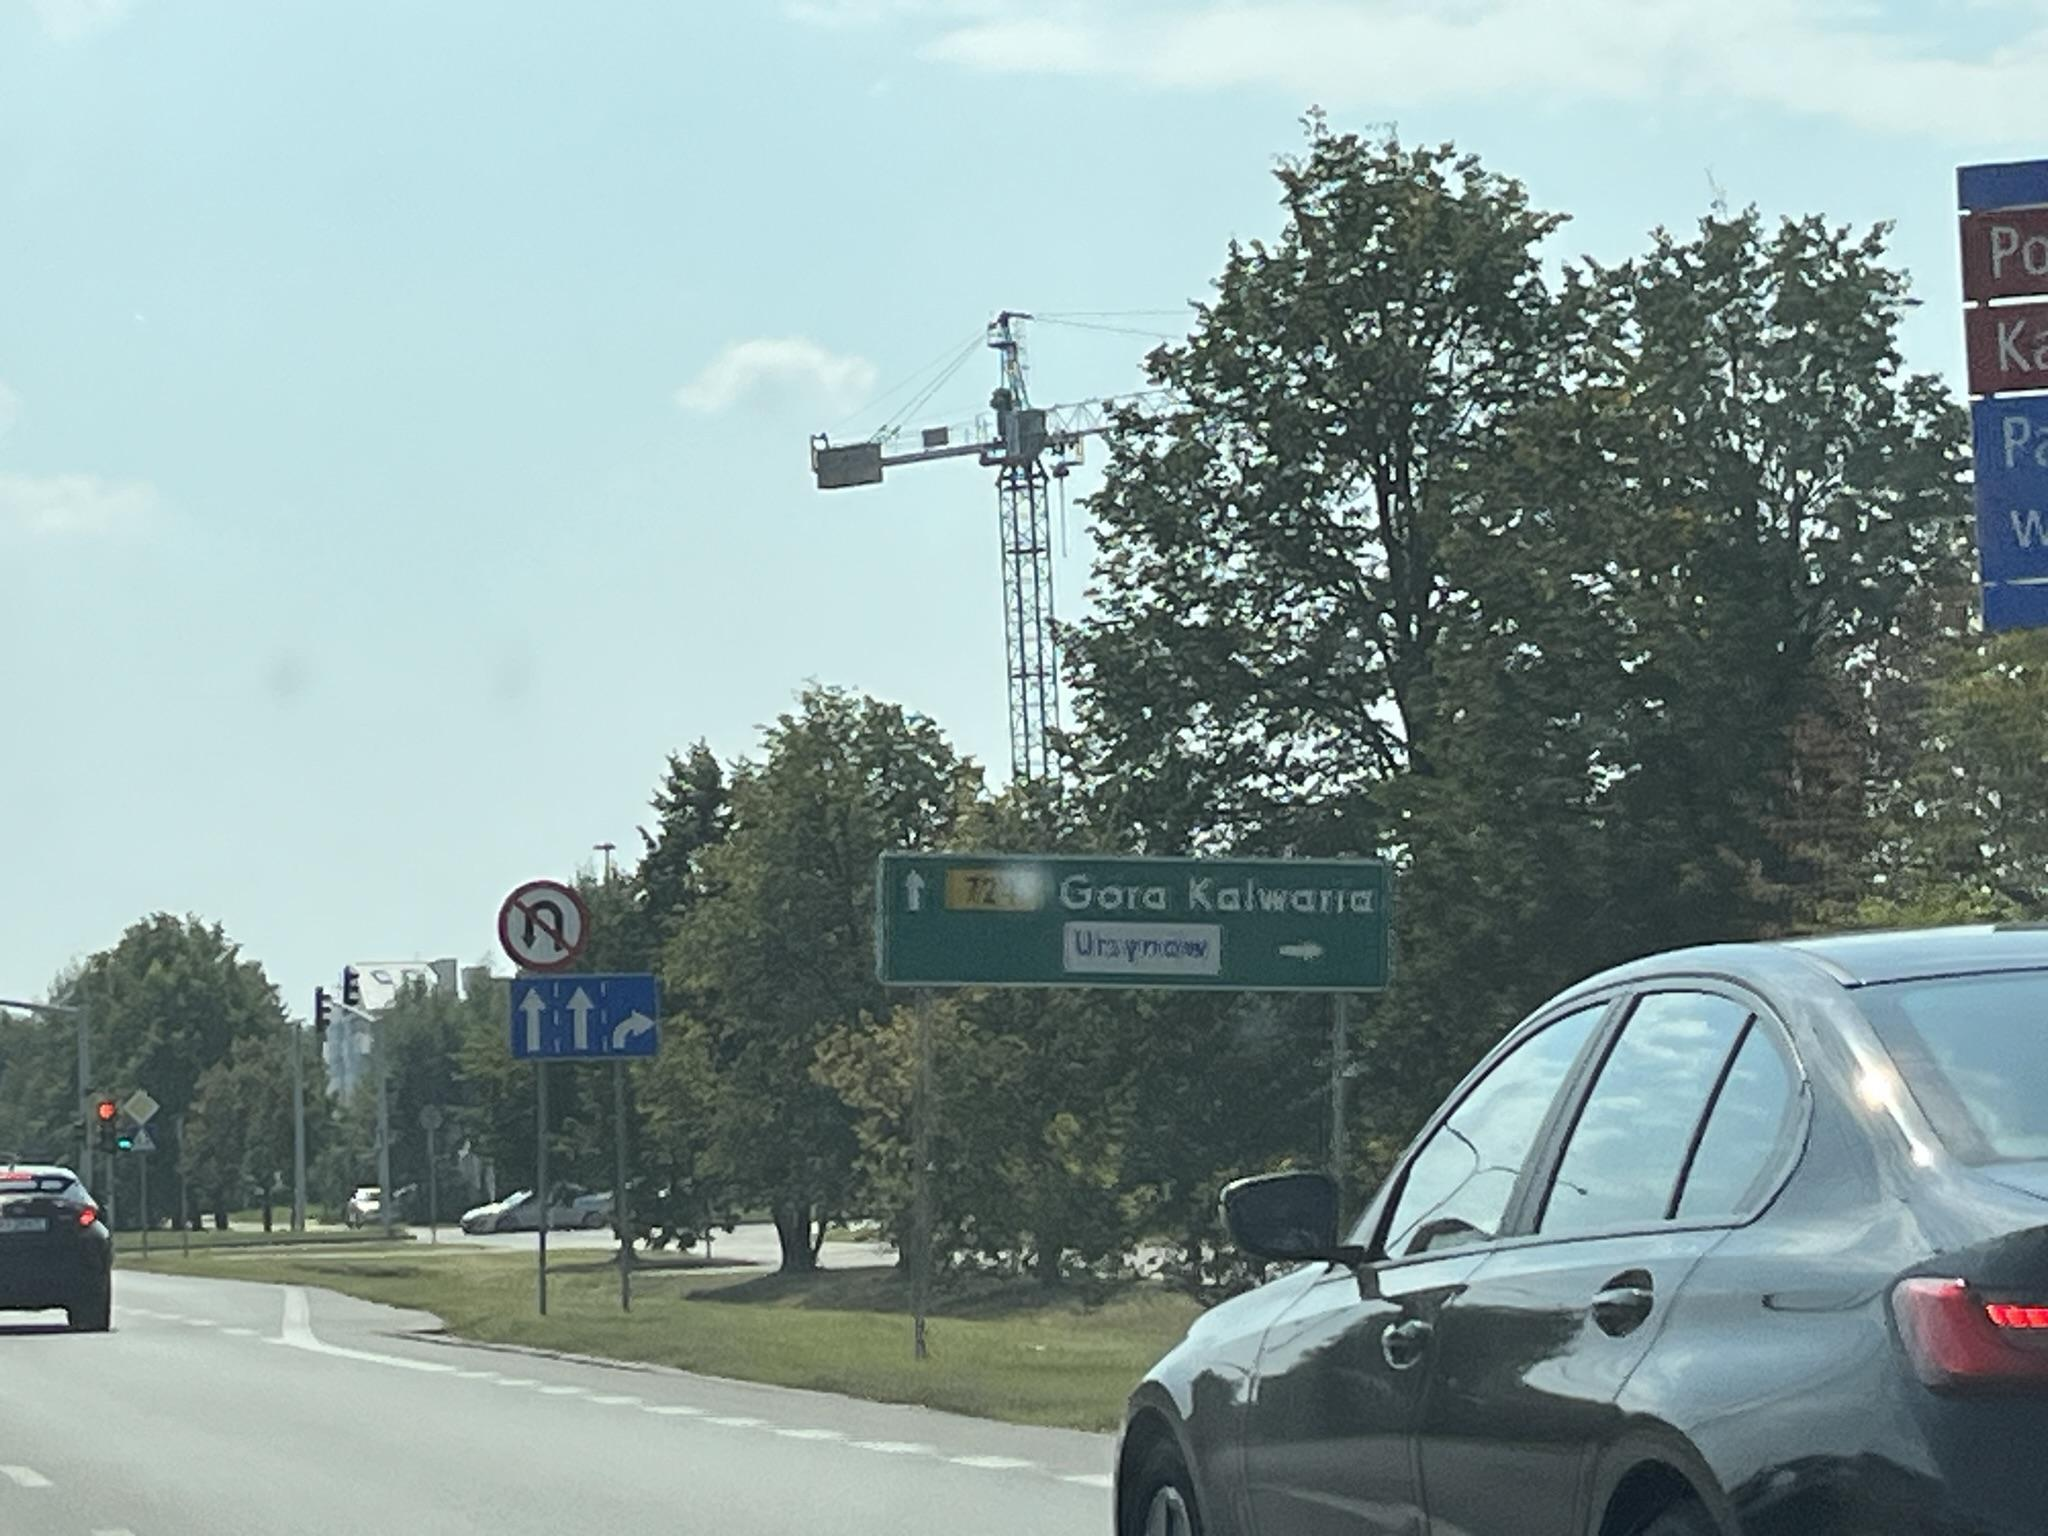direction-city: (880, 852, 1390, 987)
information: (123, 1087, 161, 1126)
other: (513, 979, 656, 1058)
prohibitory: (498, 879, 589, 975)
